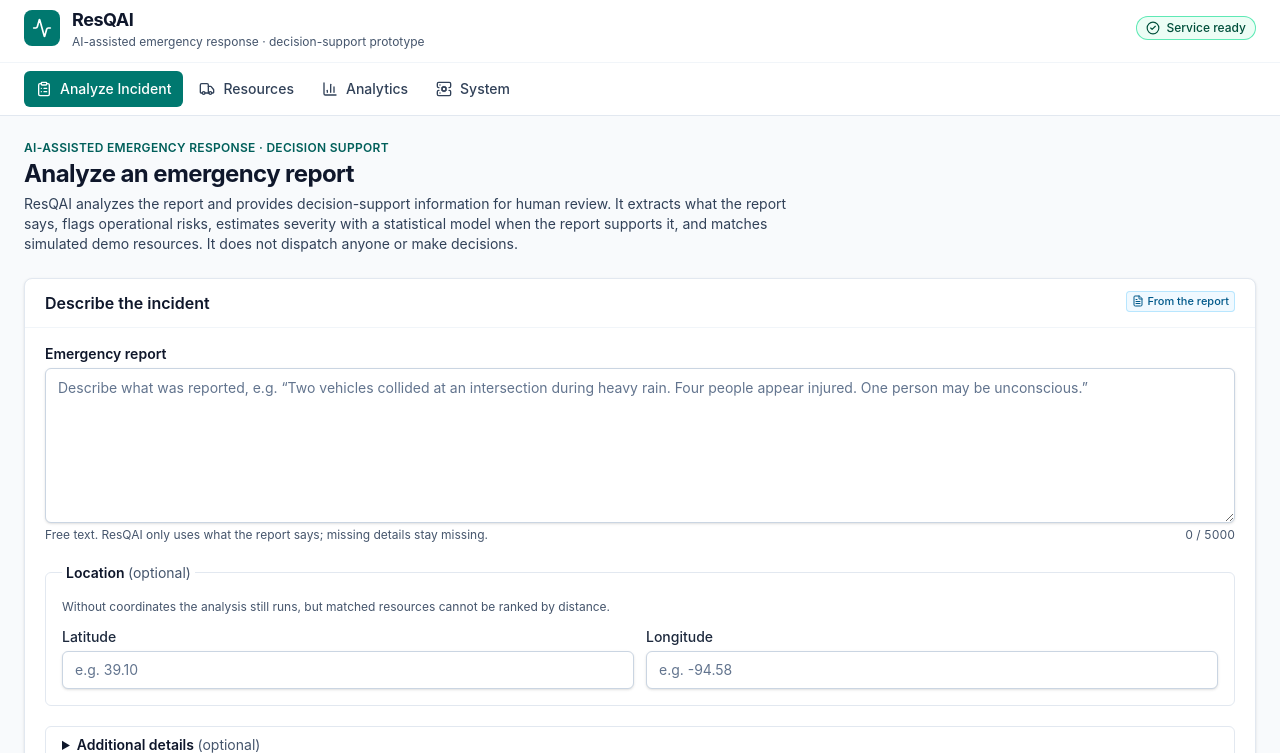
Test case: Analyze page › ignores a second submission while one is in flight
Type "Two cars collided at an intersection during heavy rain. One person may be unconscious." into the text box labelled "Emergency report". click: point(640, 445)
box: x1=45 y1=368 x2=1235 y2=522
(page scrolled)
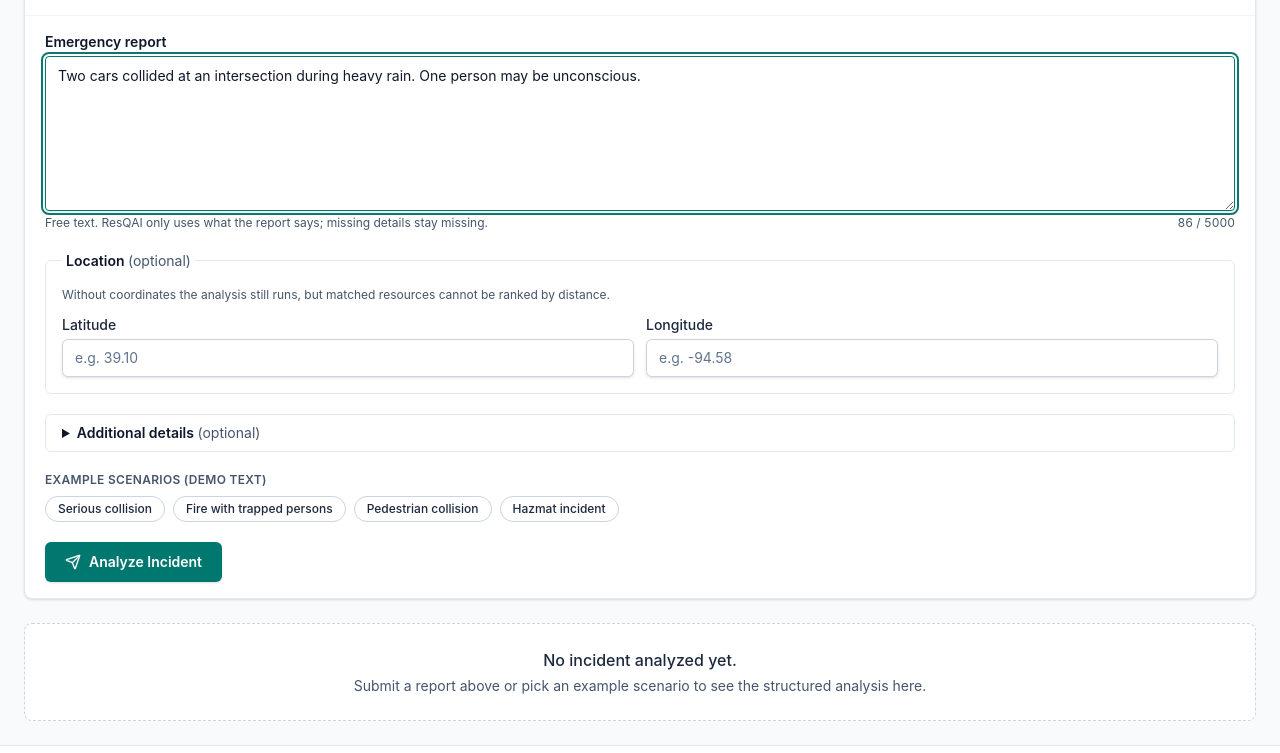
Click the button "Analyze Incident". click: point(134, 562)
box: x1=45 y1=542 x2=222 y2=582
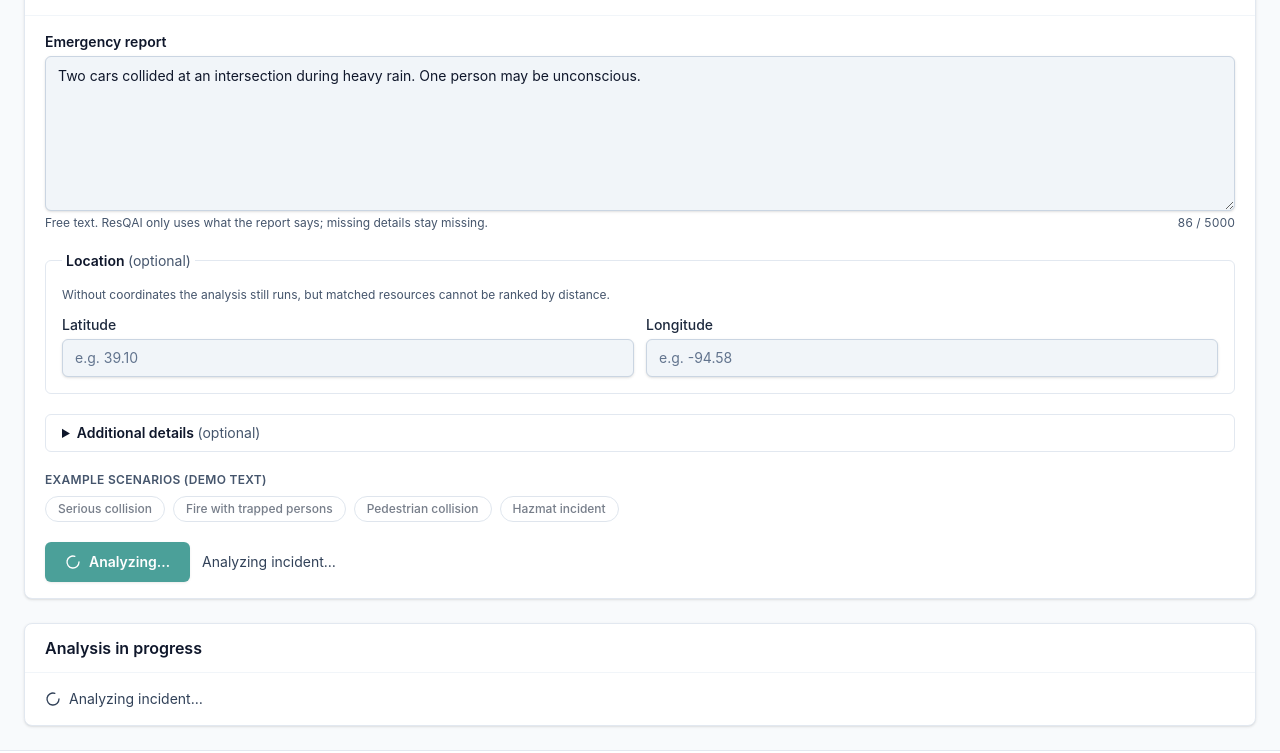
Click the button "Analyzing…". click: point(118, 562)
box: x1=45 y1=542 x2=190 y2=582
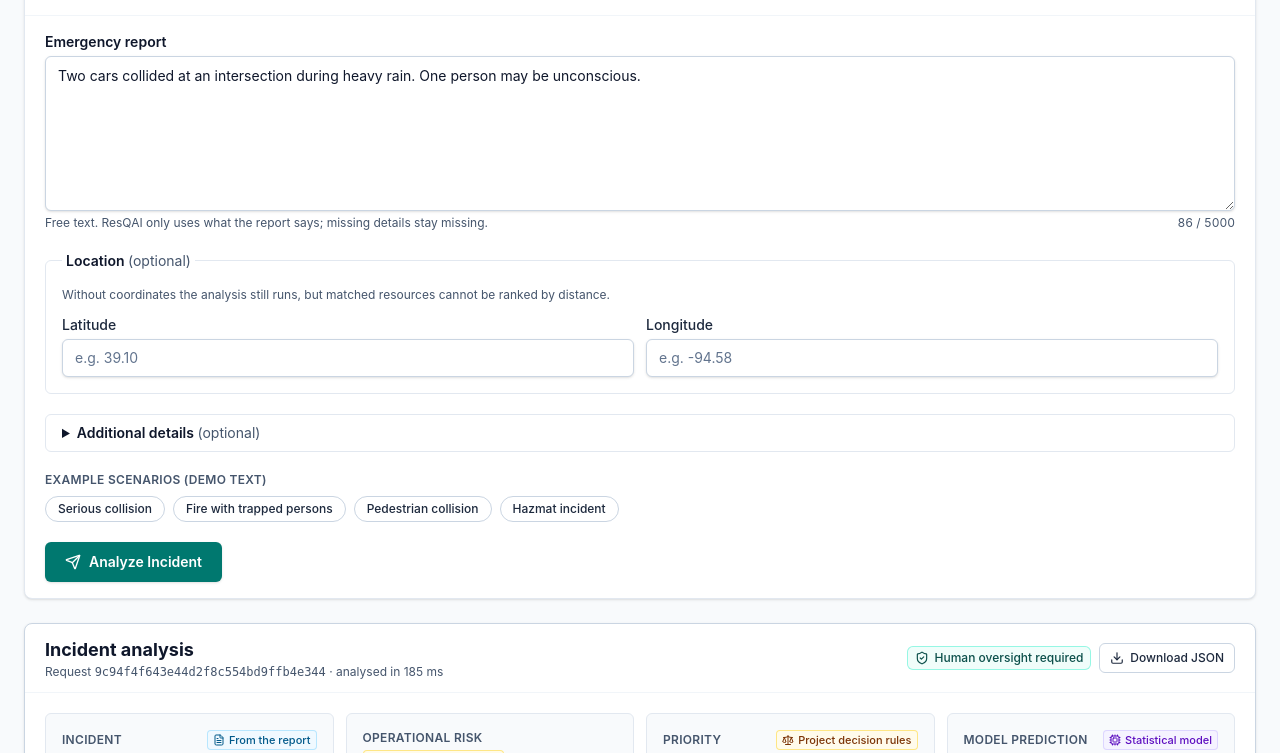
Result: the heading "Incident analysis" is shown at x1=45 y1=638 x2=194 y2=660
